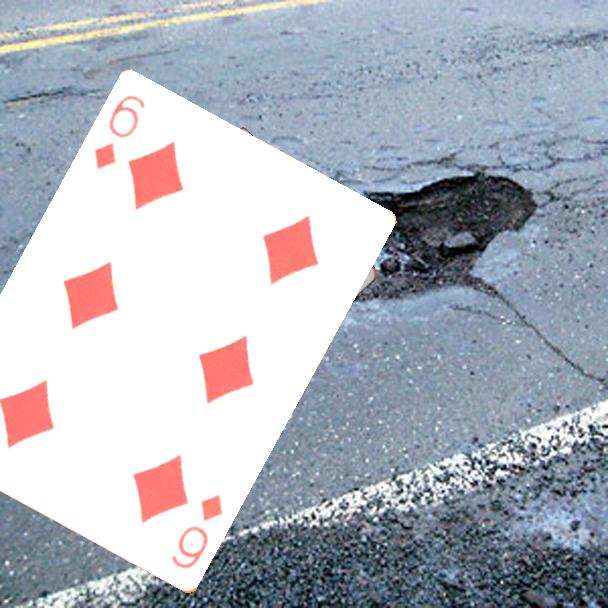d06: (167, 491, 227, 573), (90, 92, 148, 173)
